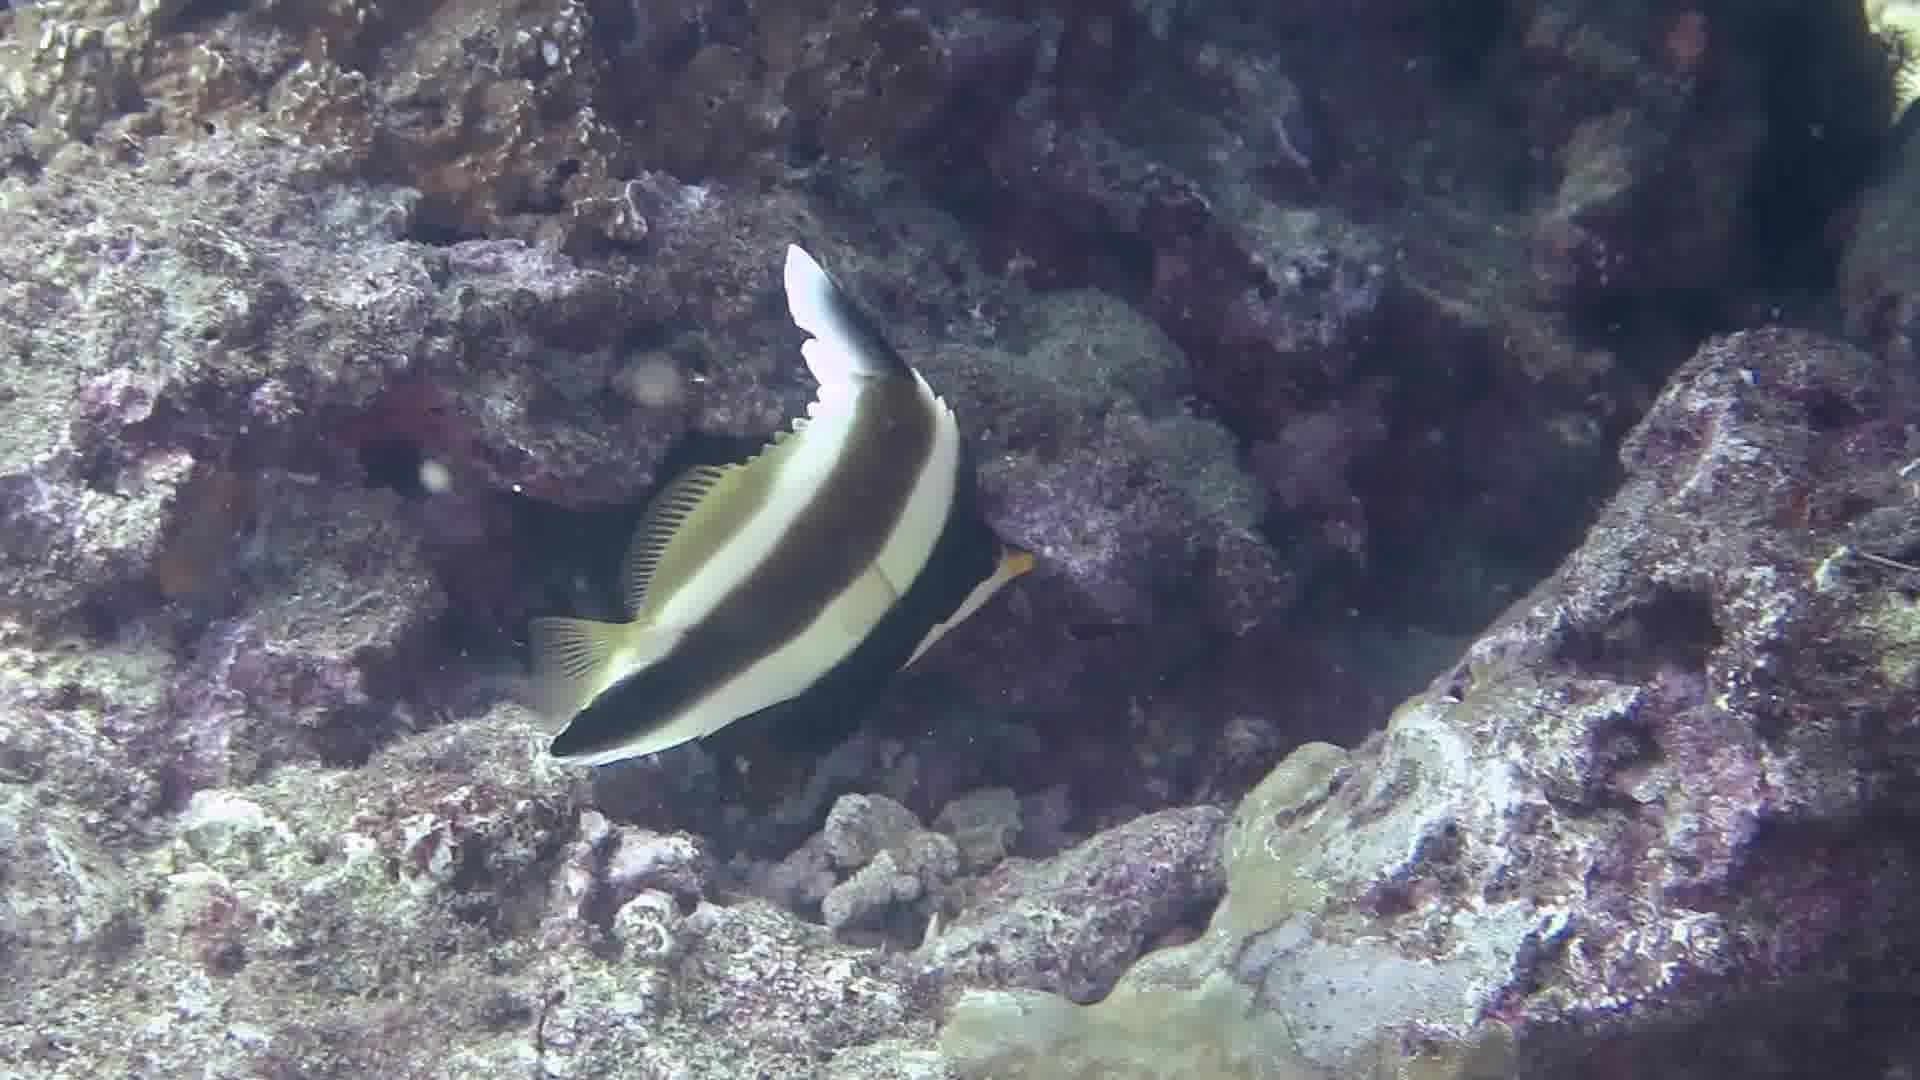Heniochus chrysostomus: (460, 231, 1105, 820)
